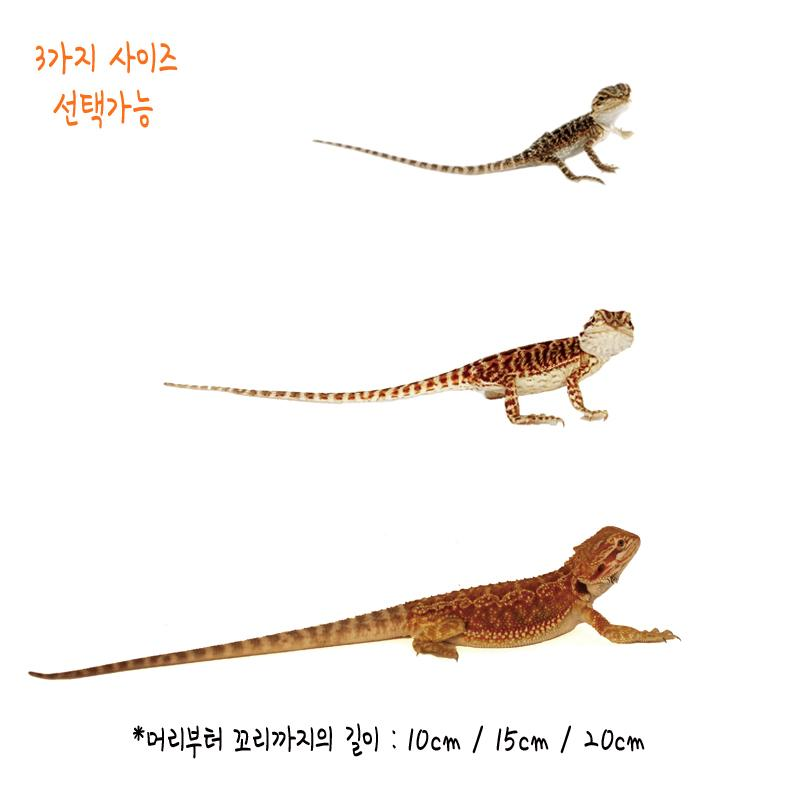bearded: (26, 526, 681, 685), (161, 306, 640, 427), (313, 79, 638, 195)
